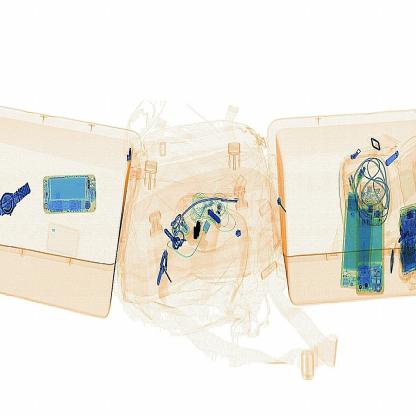knife: (188, 216, 212, 249)
